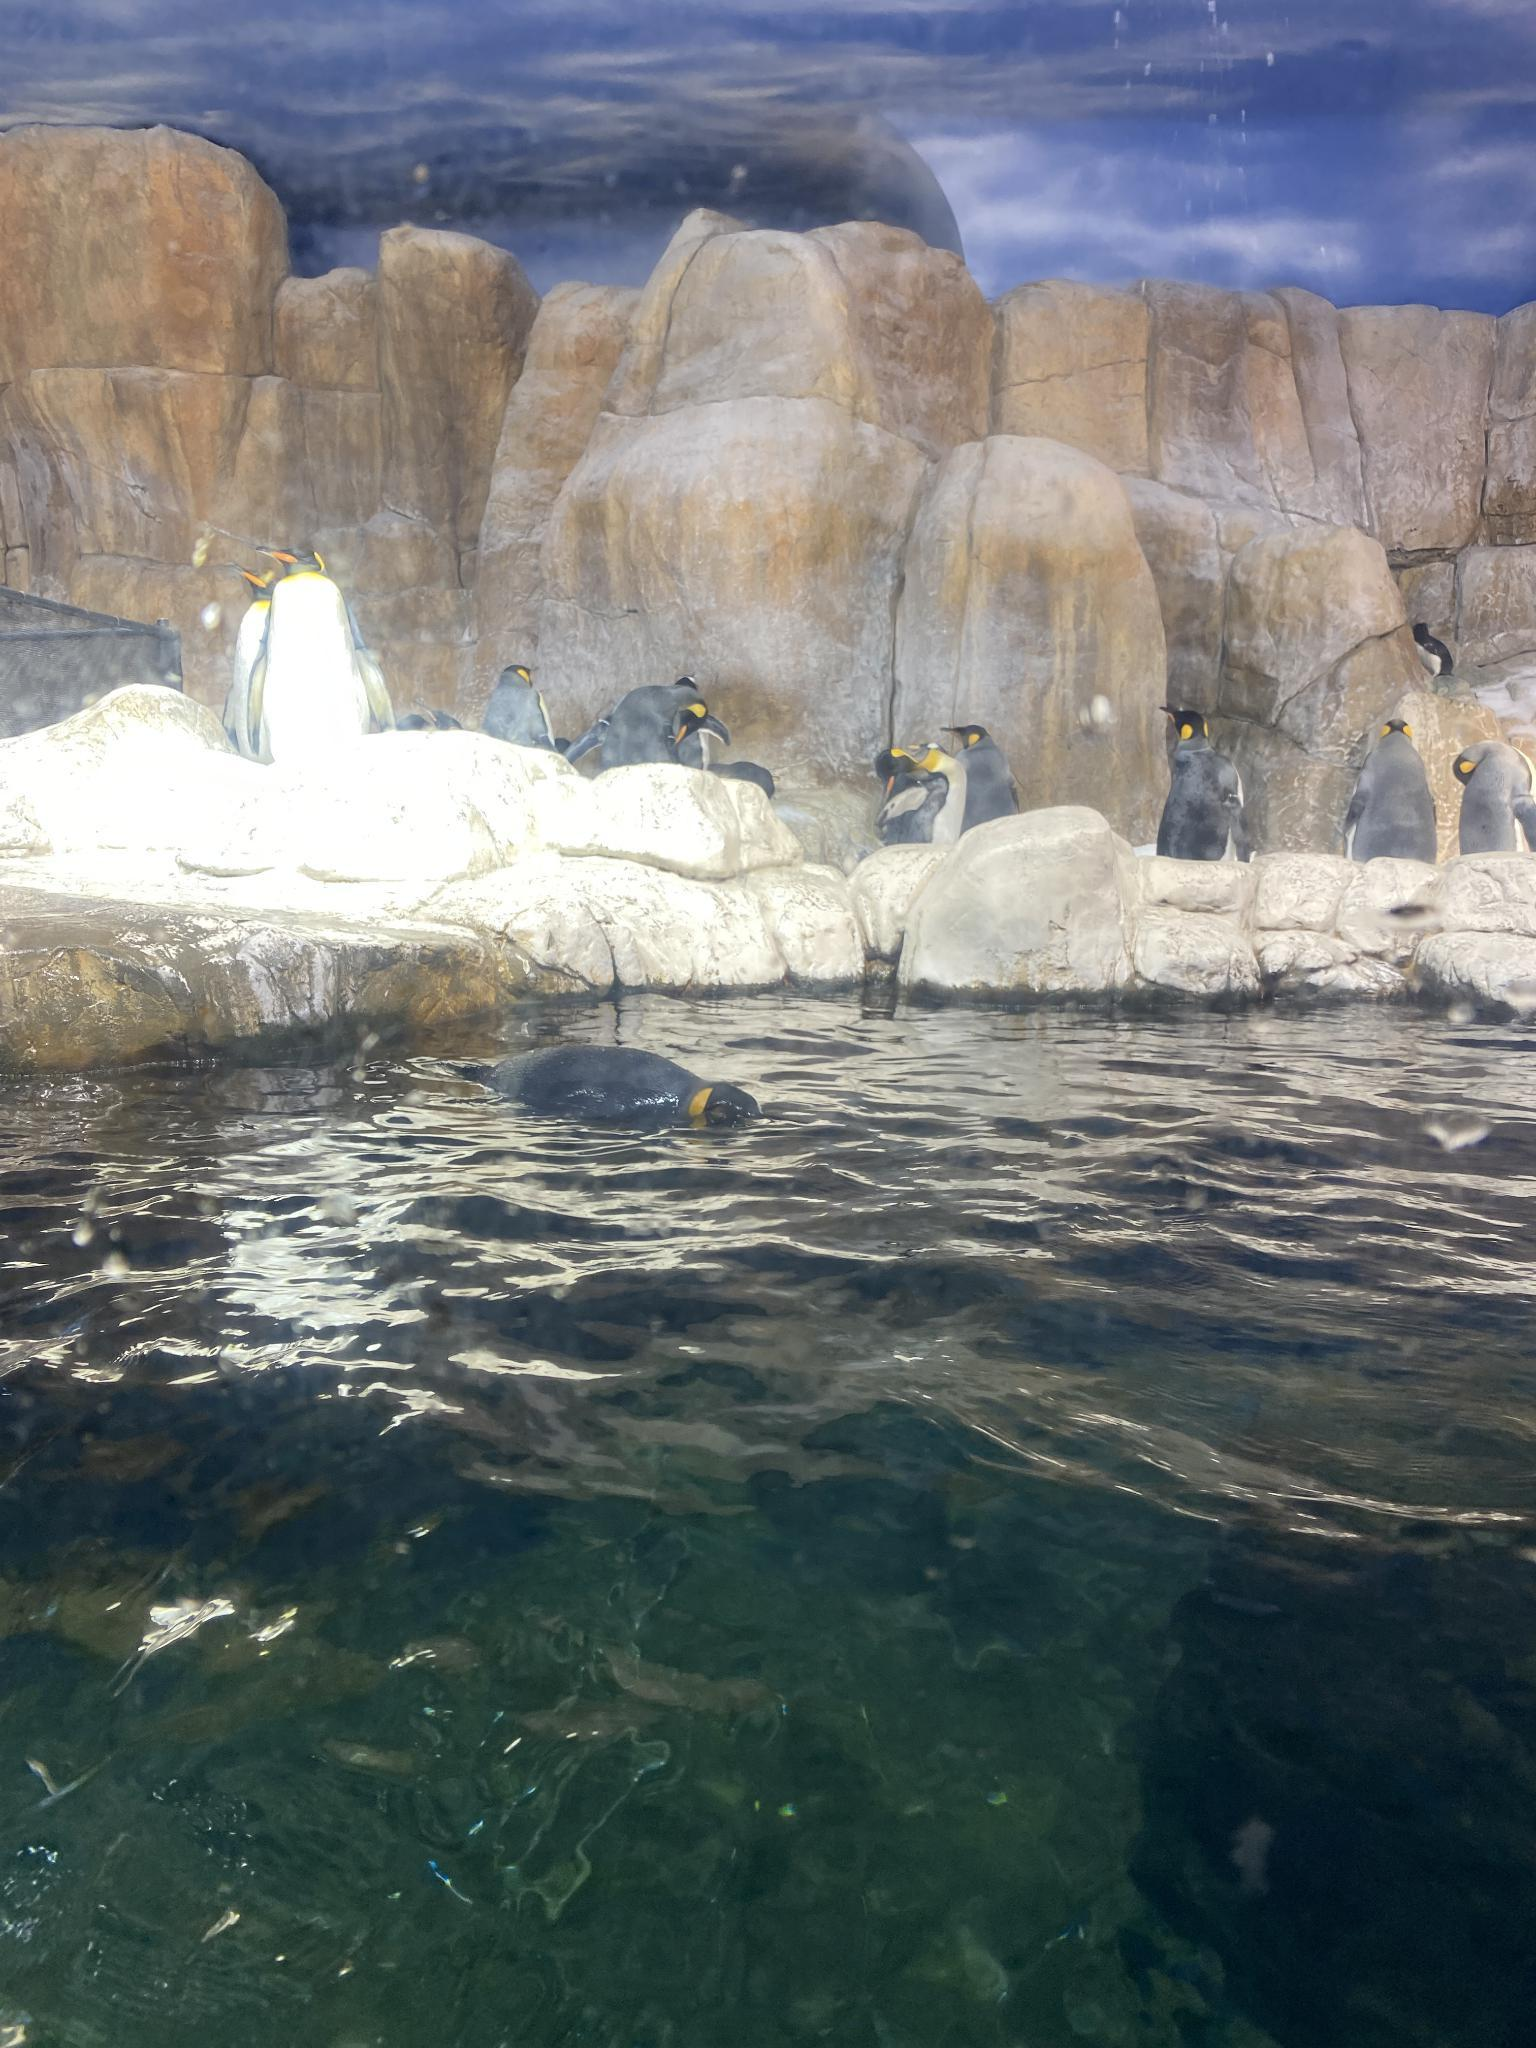penguin: (247, 542, 400, 766), (449, 1042, 770, 1143), (1154, 703, 1250, 864), (1342, 718, 1438, 860), (232, 566, 298, 753), (1450, 742, 1536, 855), (600, 677, 699, 774), (941, 722, 1021, 826), (484, 668, 555, 756), (915, 739, 966, 850), (876, 742, 926, 843), (561, 706, 629, 780), (665, 698, 728, 777)
